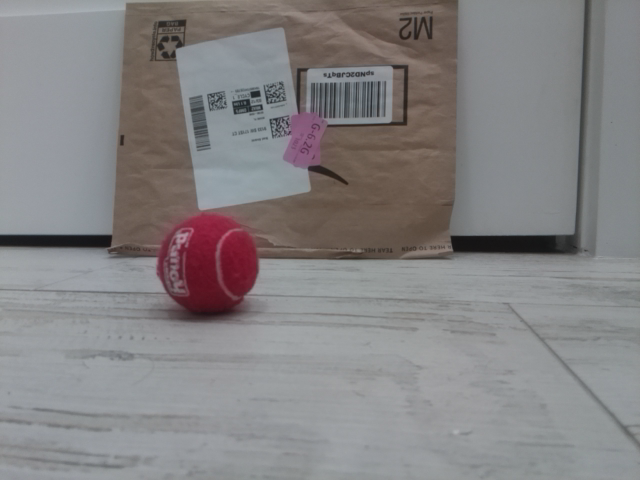red-ball: (155, 212, 260, 318)
